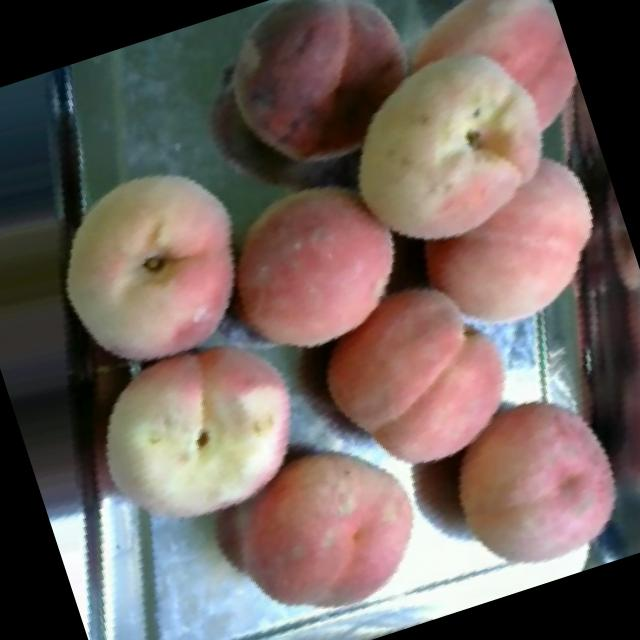Fruit: (300, 0, 606, 284), (282, 242, 552, 516), (64, 315, 342, 569), (19, 132, 281, 388), (180, 144, 436, 396), (381, 122, 640, 369), (196, 407, 455, 640), (406, 357, 640, 608), (187, 0, 453, 208)
